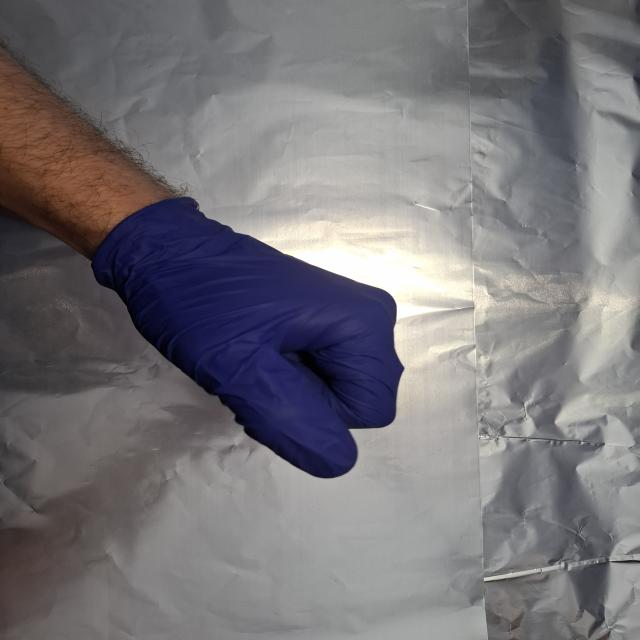glove_on: (90, 196, 407, 481)
